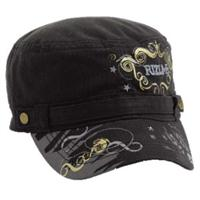hat: (6, 16, 194, 180)
